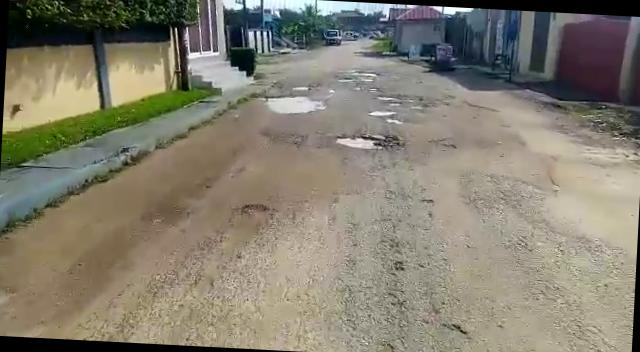pothole: (260, 91, 322, 114), (334, 131, 398, 152), (373, 94, 405, 104), (367, 110, 401, 118)
